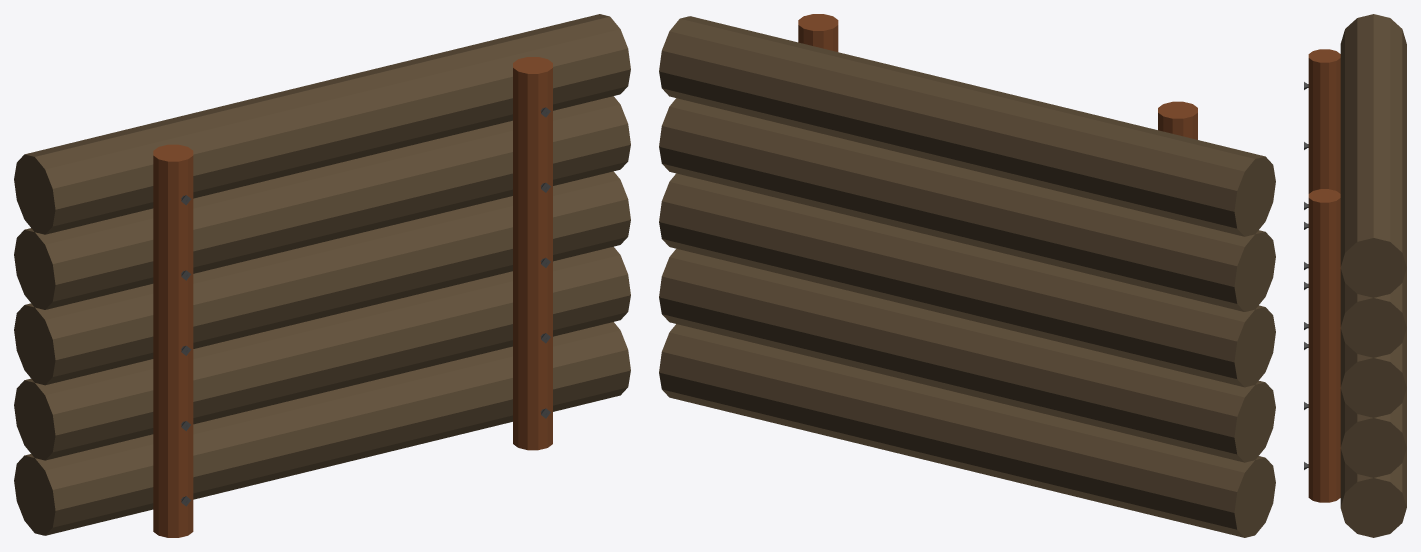
The model's file is Log Wall.fbx.
3 renders of one model, left to right at view 1: azimuth 30°, elevation 25°; view 2: azimuth 150°, elevation 25°; view 3: azimuth 270°, elevation 25°, orthographic. The views are drawn at different scales.
Parts seen in each view (by area): view 1: Log Wall; view 2: Log Wall; view 3: Log Wall.
Part boxes in pixels (x1=…): Log Wall: x1=14, y1=14, x2=630, y2=537; Log Wall: x1=659, y1=14, x2=1275, y2=537; Log Wall: x1=1304, y1=14, x2=1406, y2=537.
Bounding box in the file's own units: 800 × 500 × 155.
